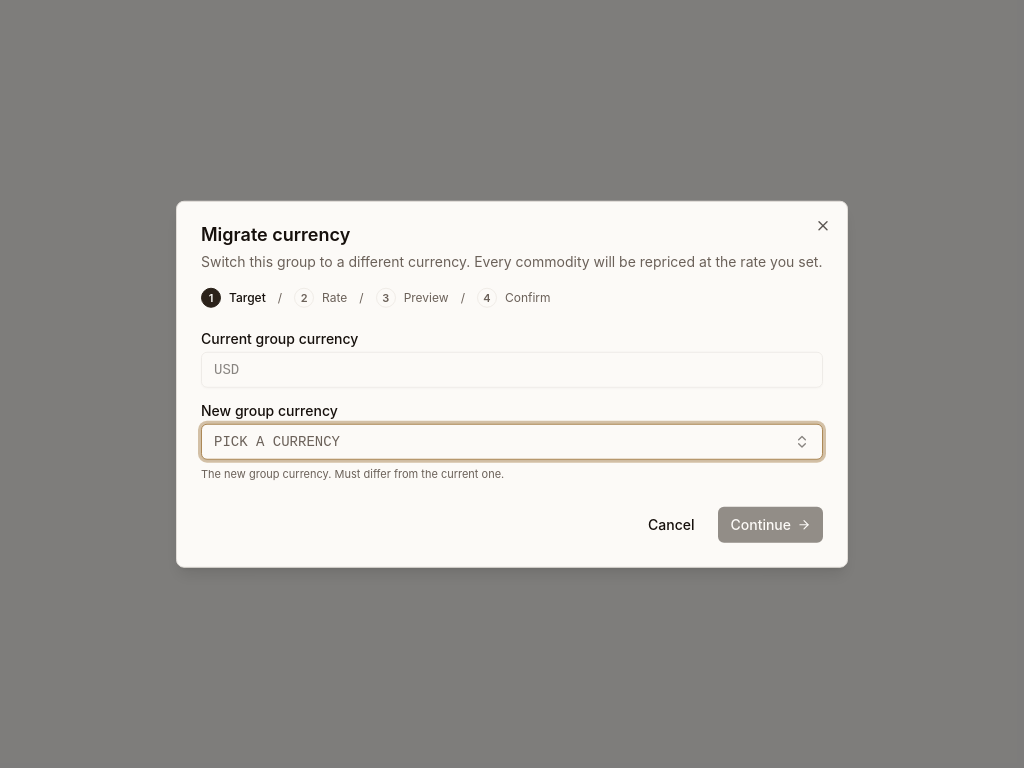
Test: <MigrateCurrencyDialog /> › renders preview totals and the 10-minute countdown after submit
The width and height of the screenshot is (1024, 768).
# pick EUR
Click the dropdown. click: [277, 442]
box: top-left (201, 424), bottom-right (823, 460)
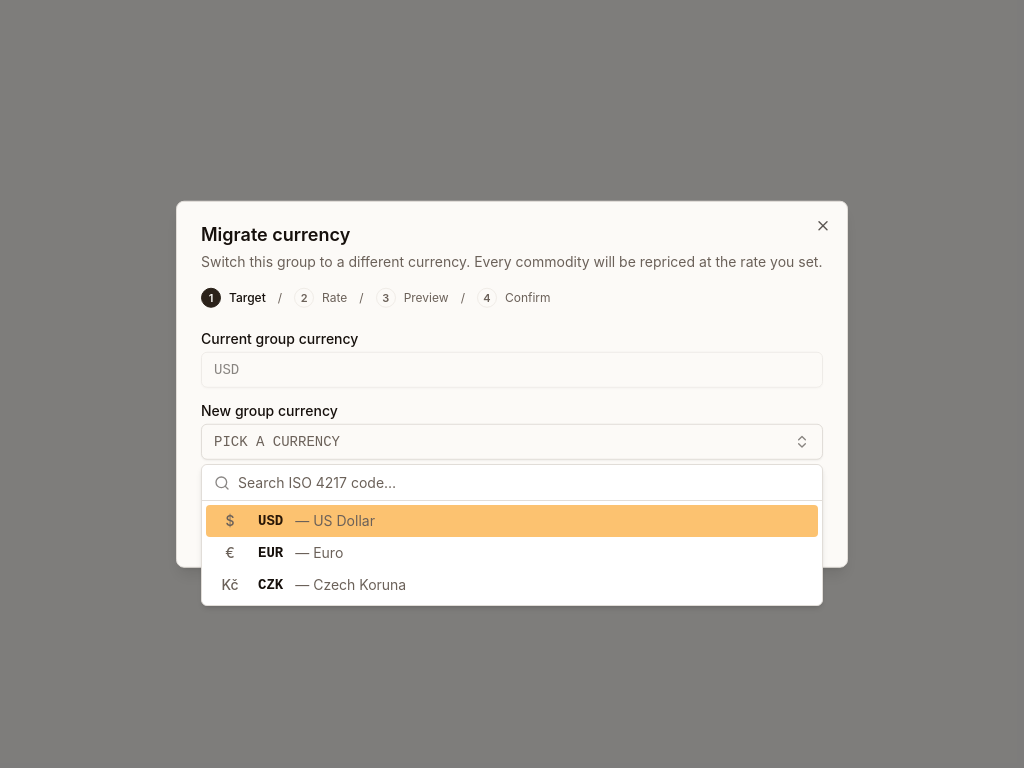
Click the text "EUR". click: [271, 553]
box: top-left (258, 543), bottom-right (283, 563)
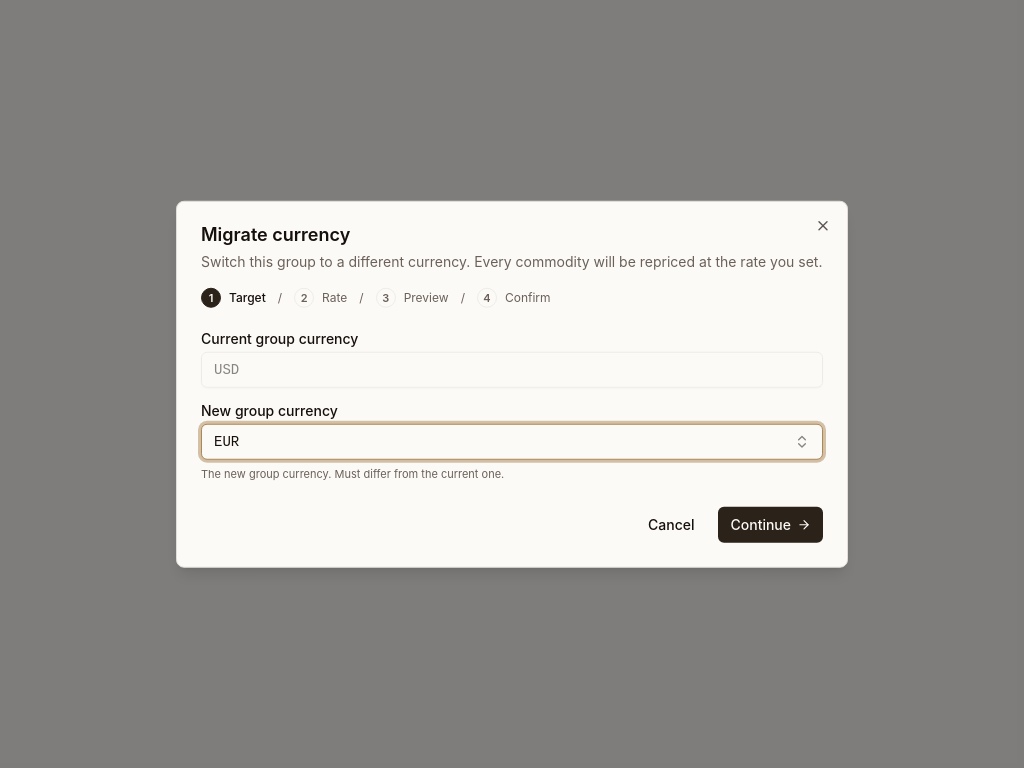
Click the button with test id "wizard-next". click: [771, 524]
box: top-left (718, 506), bottom-right (823, 542)
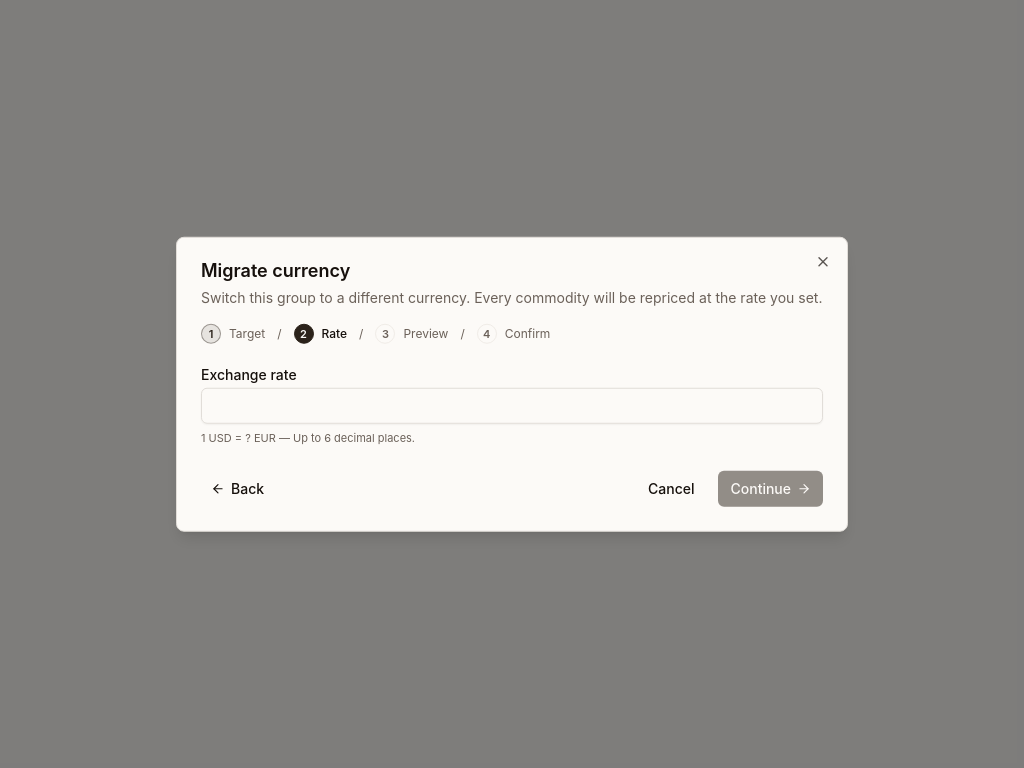
# enter rate
Type "0.9" into the field with test id "wizard-rate-input". click: [512, 406]
box: top-left (201, 388), bottom-right (823, 424)
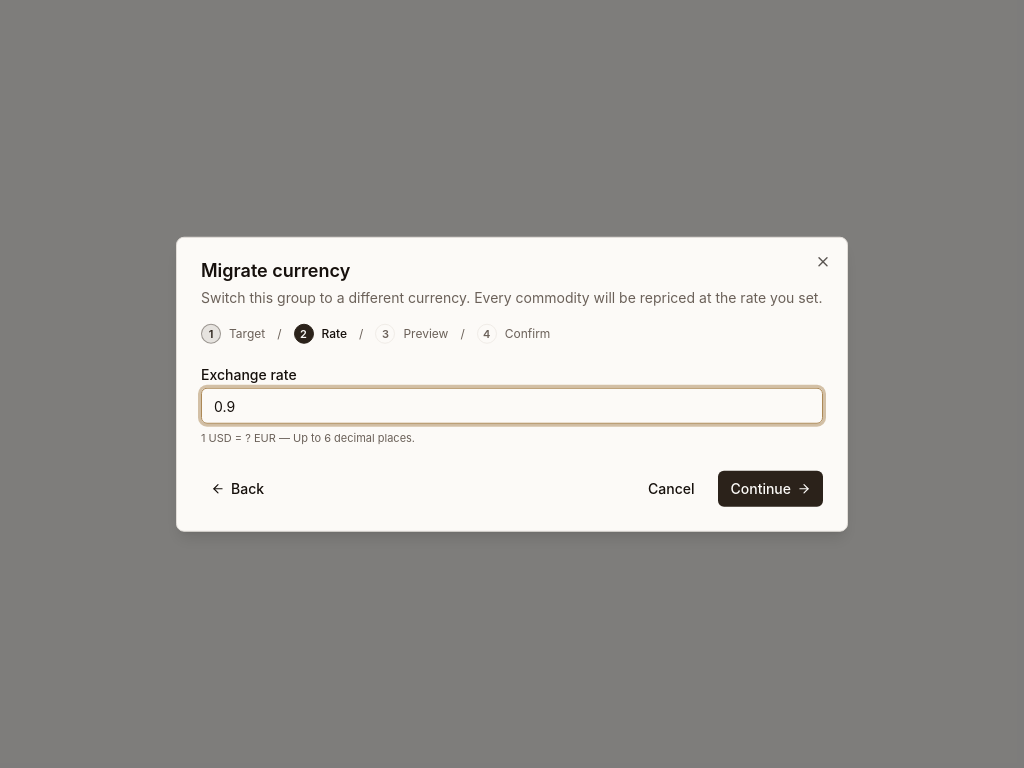
Click the button with test id "wizard-preview". click: [771, 488]
box: top-left (718, 470), bottom-right (823, 506)
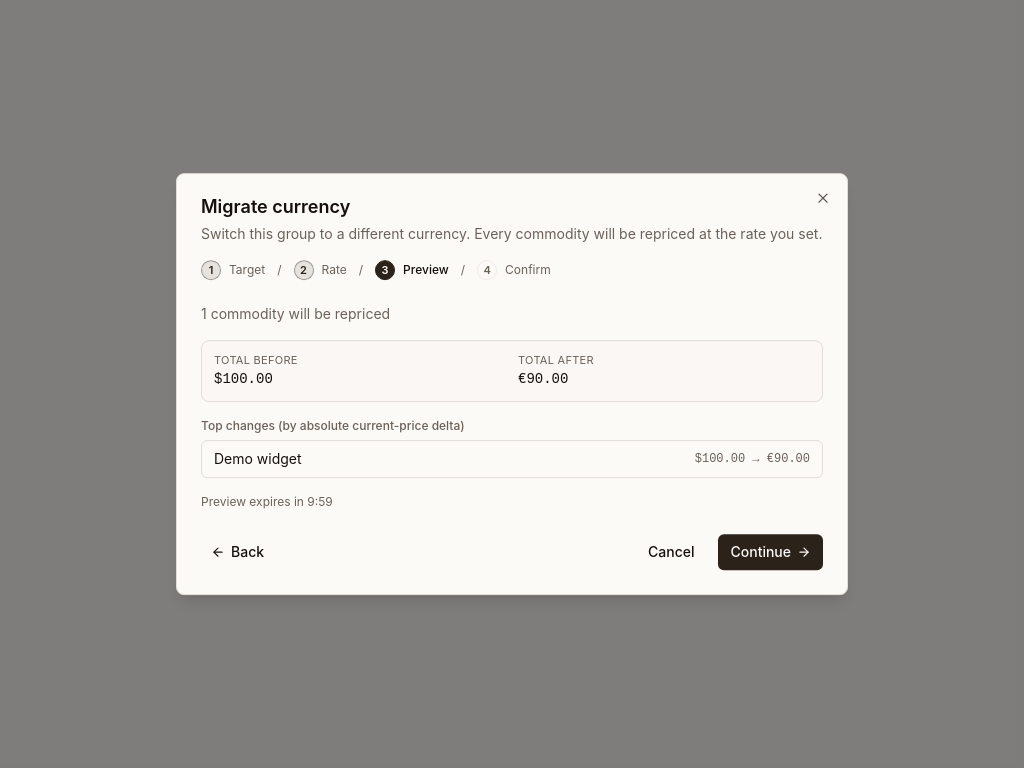
Expected: the text "$100.00" is shown, top-left (214, 371), bottom-right (273, 387)
Expected: the text with test id "wizard-preview-countdown" shows "Preview expires in", top-left (201, 494), bottom-right (333, 509)
Expected: the list with test id "wizard-top-deltas" is shown, top-left (201, 440), bottom-right (823, 478)
